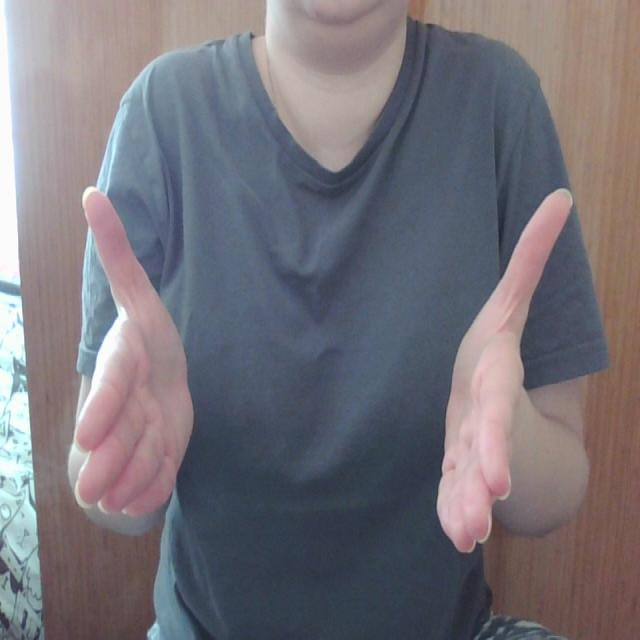Nasil: (66, 163, 578, 556)
